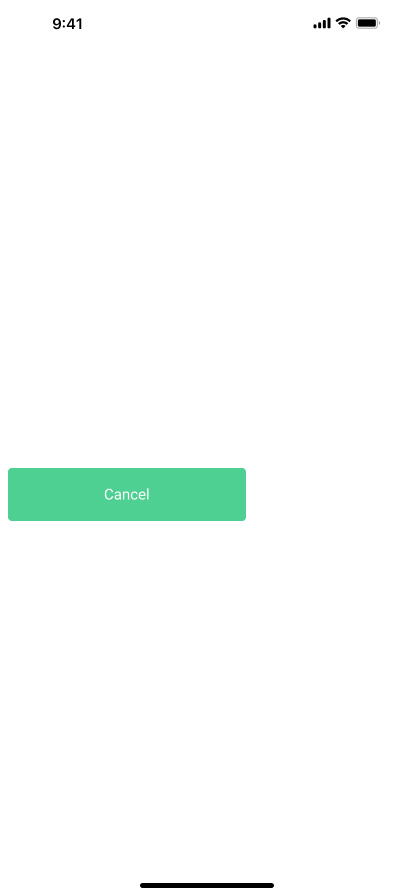Buttons: (8, 468, 246, 521)
Home Indicator: (0, 862, 414, 896)
Status Bar: (0, 0, 414, 44)
